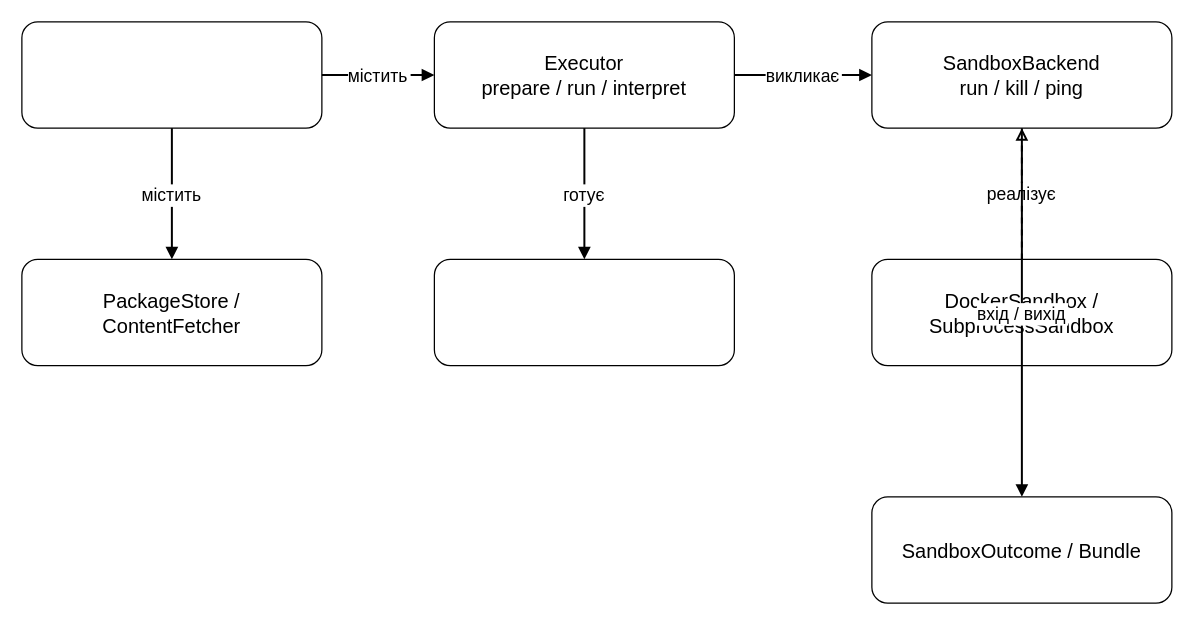
This 1194x625 diagram has some shape labels left out. The centre of each missing label's shape, as x and y in pixels:
"PreparedInvocation" goes at (x=583, y=312).
"Runtime store / executor / schemas" goes at (x=171, y=74).
